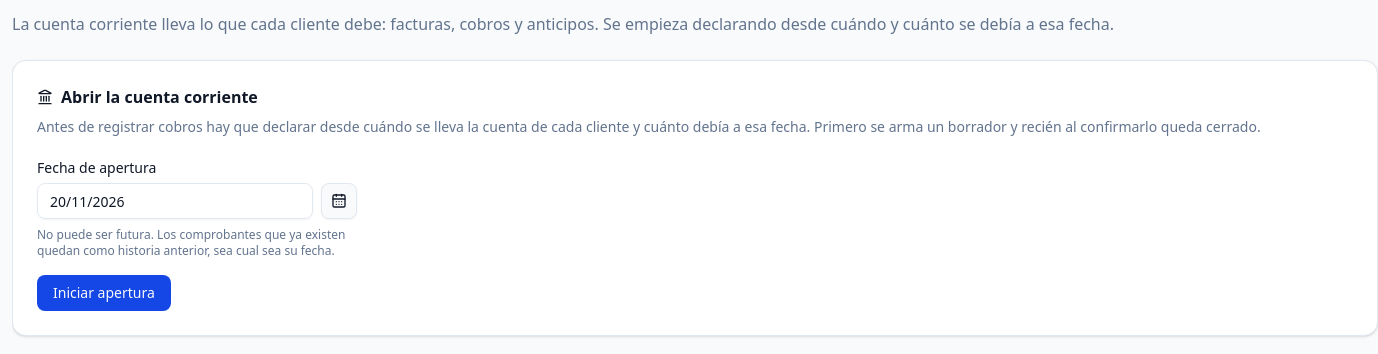
Test case: Apertura de la cuenta corriente › sin apertura › un segundo click mientras se inicia no vuelve a llamar al servidor y el botón muestra el spinner
Later steps or results of the test are not shown.
Click the button "Iniciar apertura".
click(104, 293)  # box [37,275,171,311]
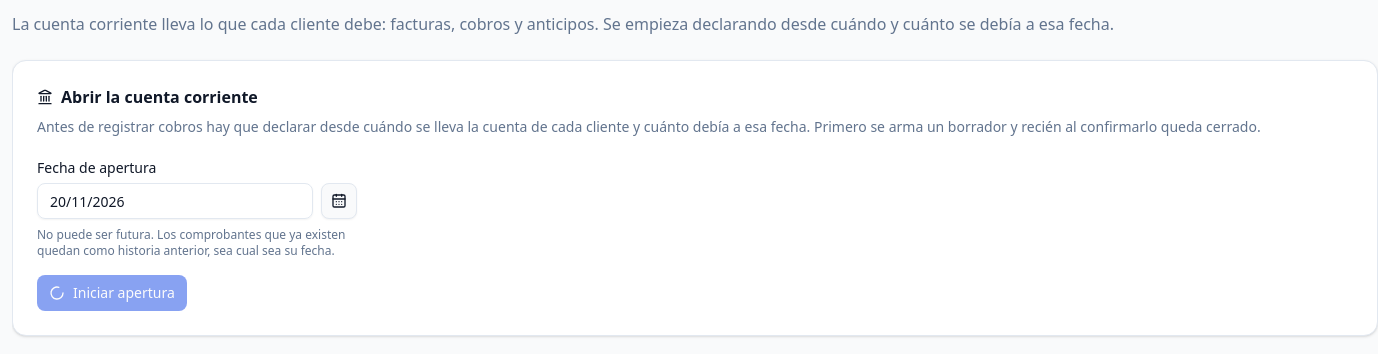
Expected: the button "Iniciar apertura" is disabled, [37,275,187,311]
Expected: the message named "Iniciando la apertura" is shown, [49,285,65,301]
